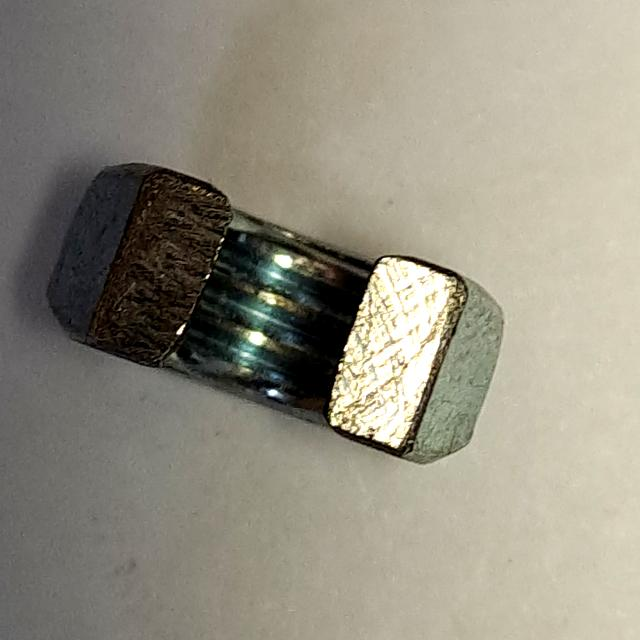Side-Fracture: (31, 143, 519, 486)
